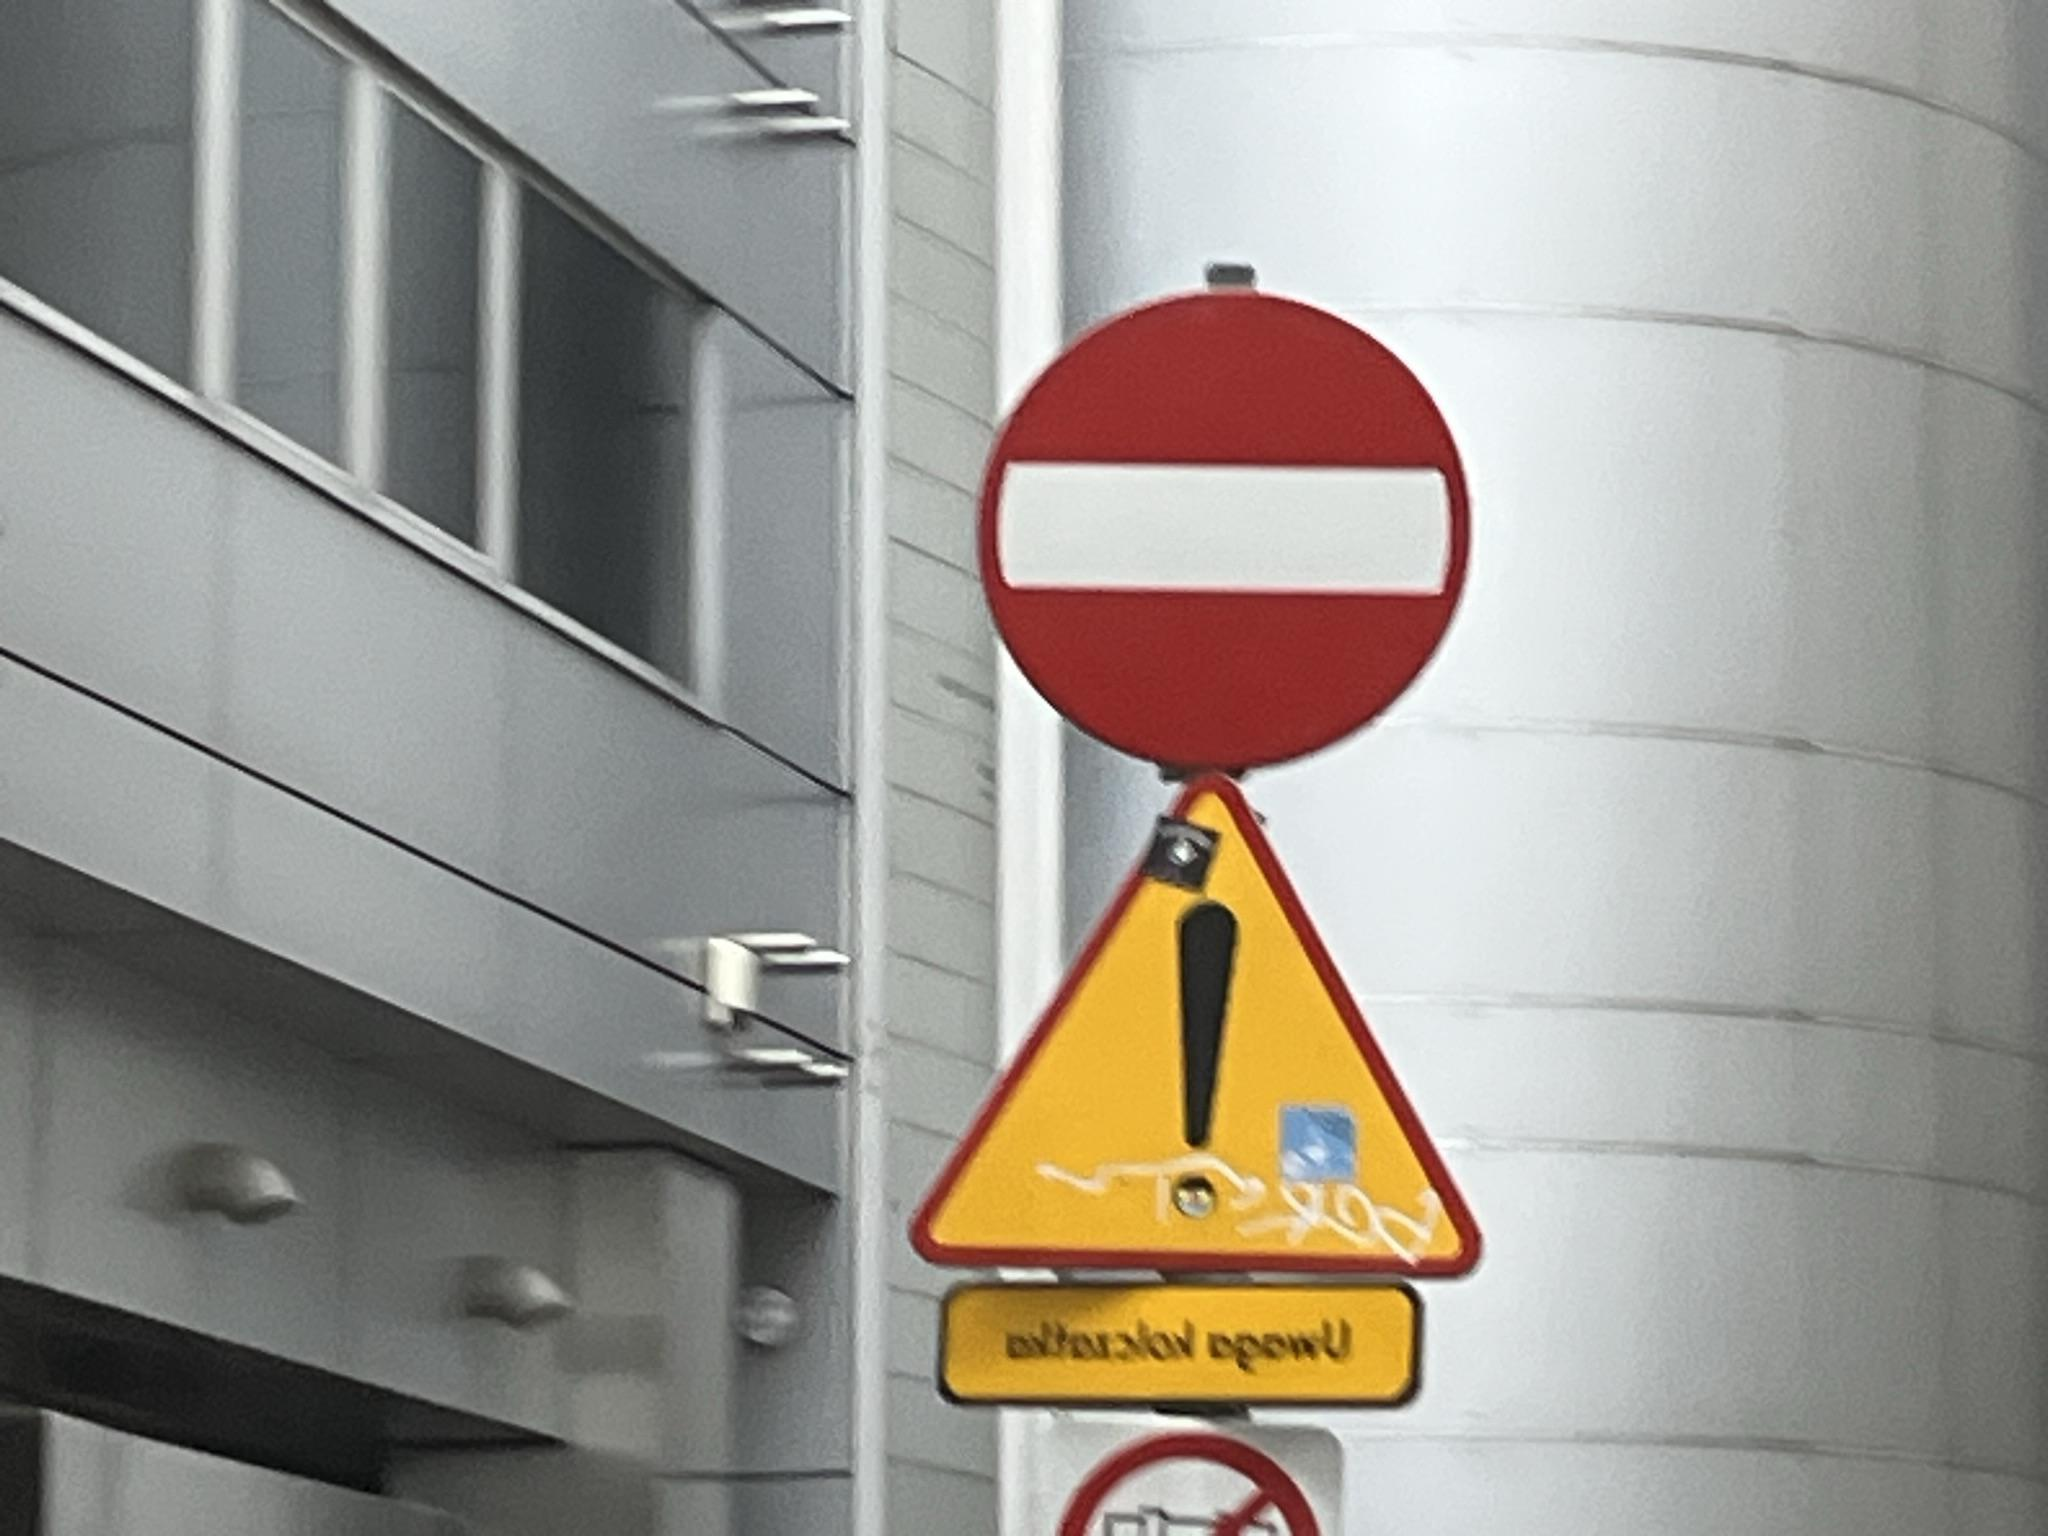other: (932, 1284, 1421, 1412), (1013, 1426, 1343, 1536)
prohibitory: (976, 289, 1474, 776)
warning: (910, 771, 1482, 1284)
